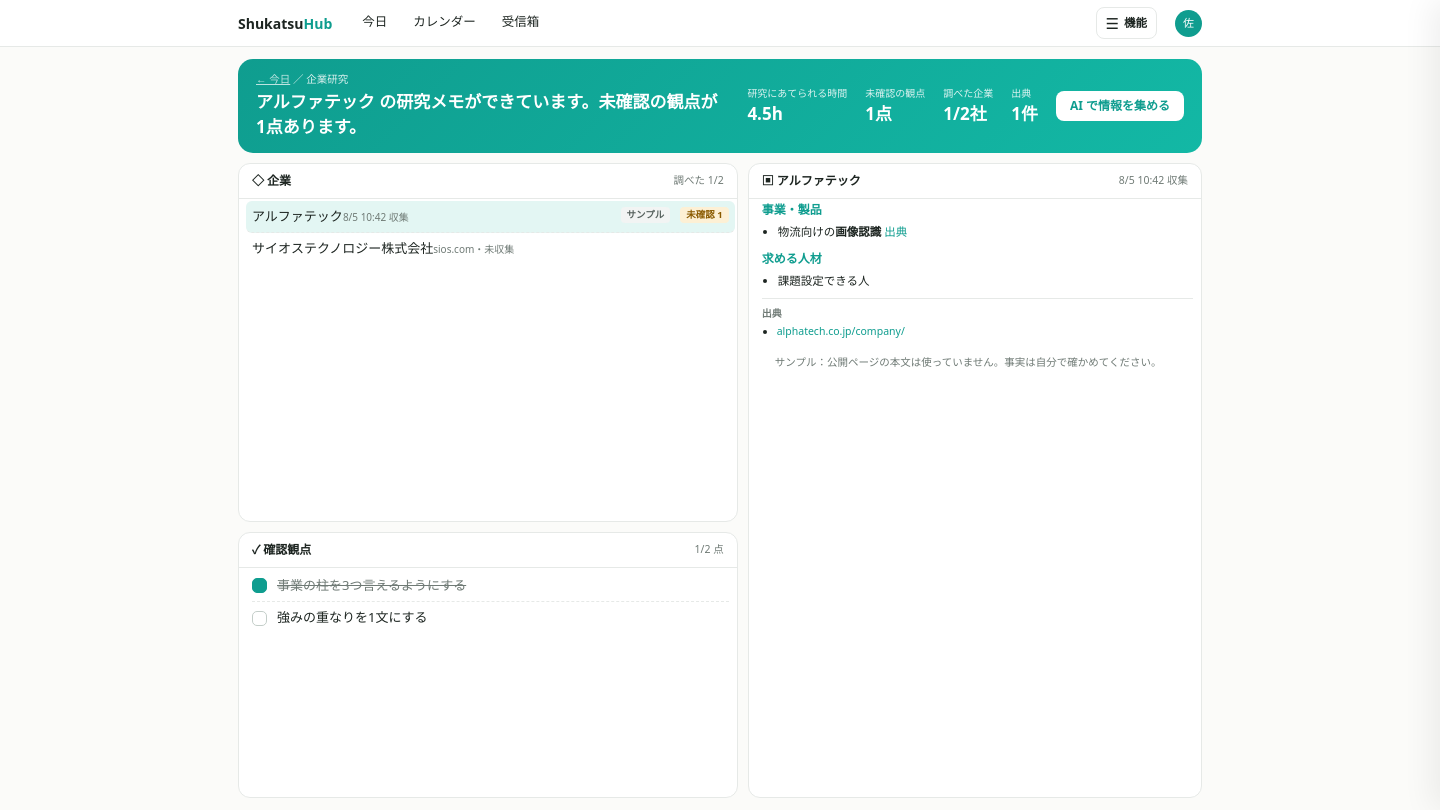
Scenario: 企業一覧と本文 › 企業をクリックすると本文が入れ替わる
The width and height of the screenshot is (1440, 810).
Expected: the text "アルファテック" is shown, [252,207,343,225]
Click the button "サイオステクノロジー株式会社".
click(490, 249)  # box [252,239,729,259]
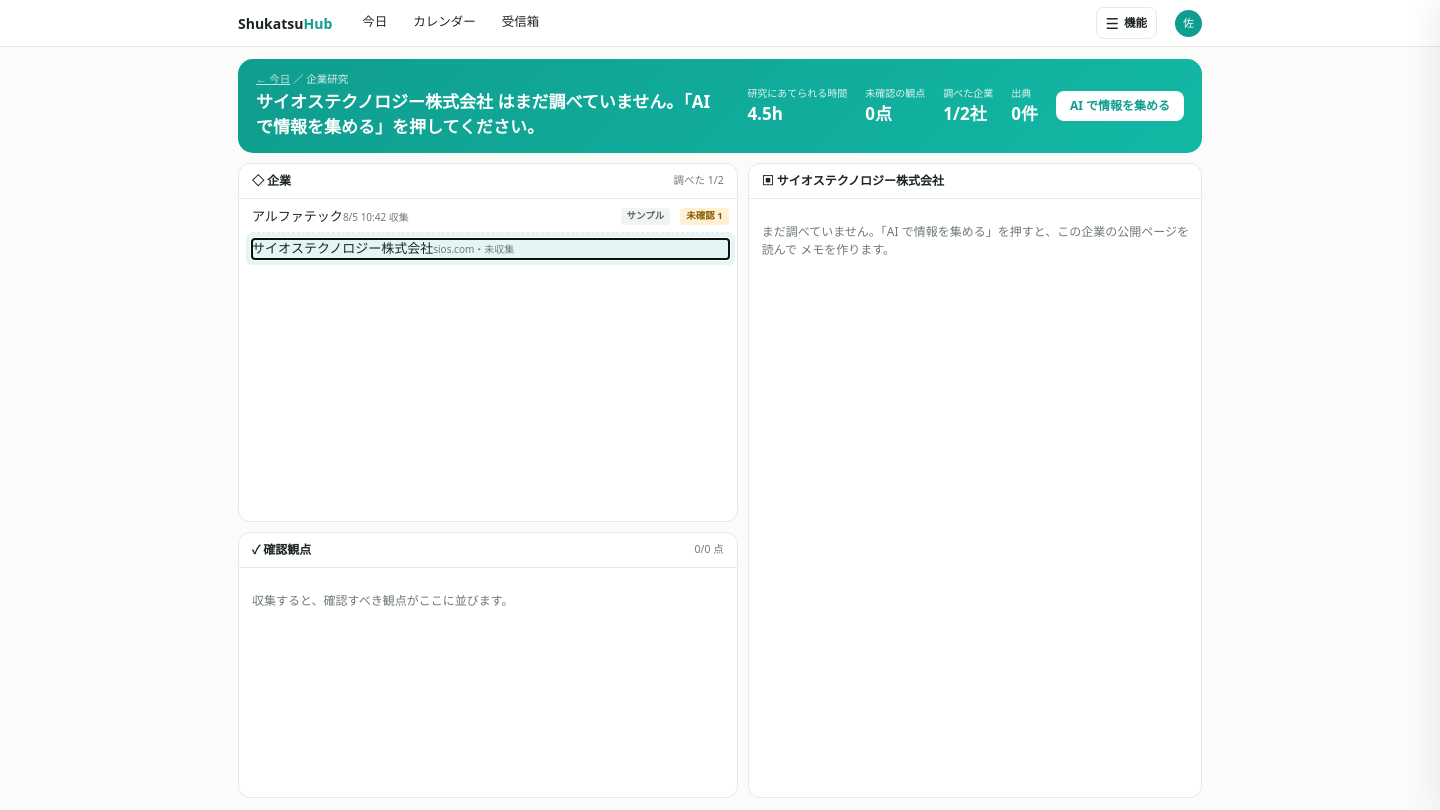
Now the heading "サイオステクノロジー株式会社 はまだ調べていません。「AI で情報を集める」を押してください。" is shown, box [256,89,729,140]
Now the text "まだ調べていません。「AI で情報を集める」を押すと、この企業の公開ページを読んで メモを作ります。" is shown, box [762,213,1193,269]
